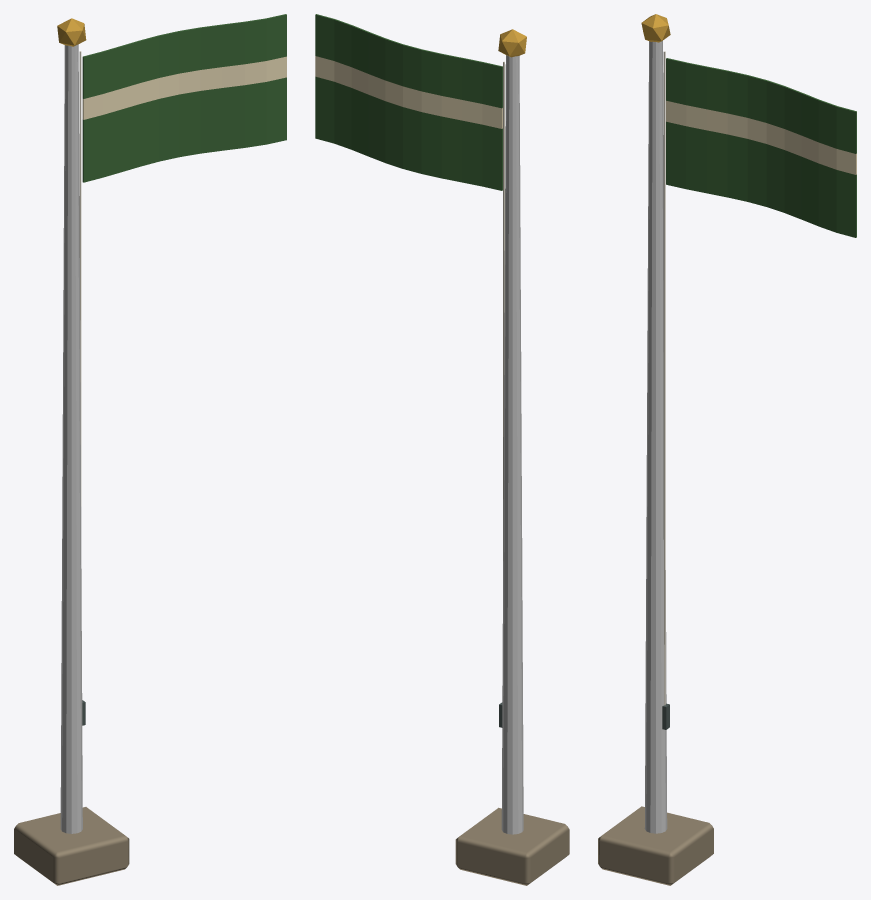
The model's file is FlagPole.glb.
The picture shows the model from 3 angles, left to right: view 1: azimuth 30°, elevation 25°; view 2: azimuth 150°, elevation 25°; view 3: azimuth 330°, elevation 25°; orthographic projection.
Parts seen in each view (by area): view 1: FlagPole.001; view 2: FlagPole.001; view 3: FlagPole.001.
Part boxes in pixels (box(x1,y1,x2,y2)): FlagPole.001: box(14, 14, 286, 885); FlagPole.001: box(315, 14, 569, 885); FlagPole.001: box(598, 14, 856, 885).
Size of the model in its own units: 2.25 by 7.41 by 0.7.
